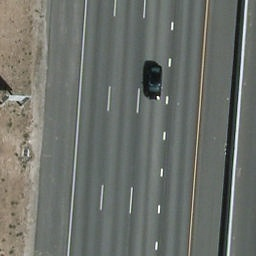car: (145, 65, 163, 102)
